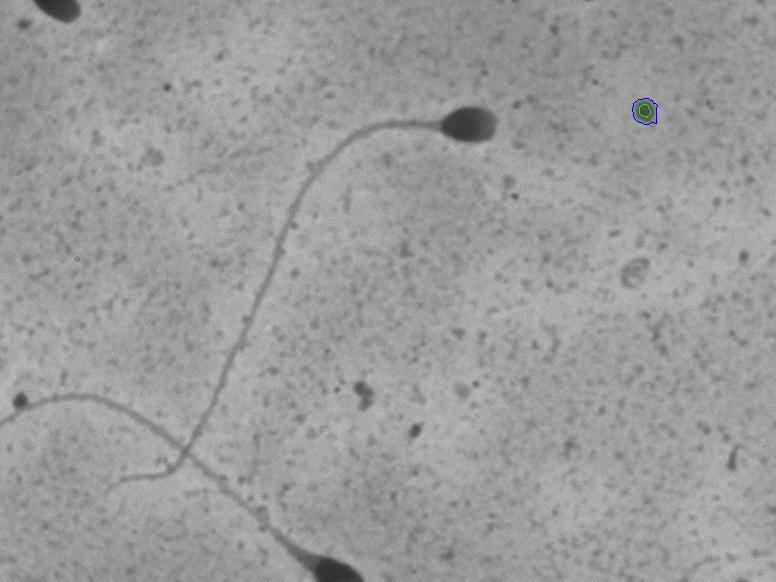Normal: (93, 91, 513, 513)
